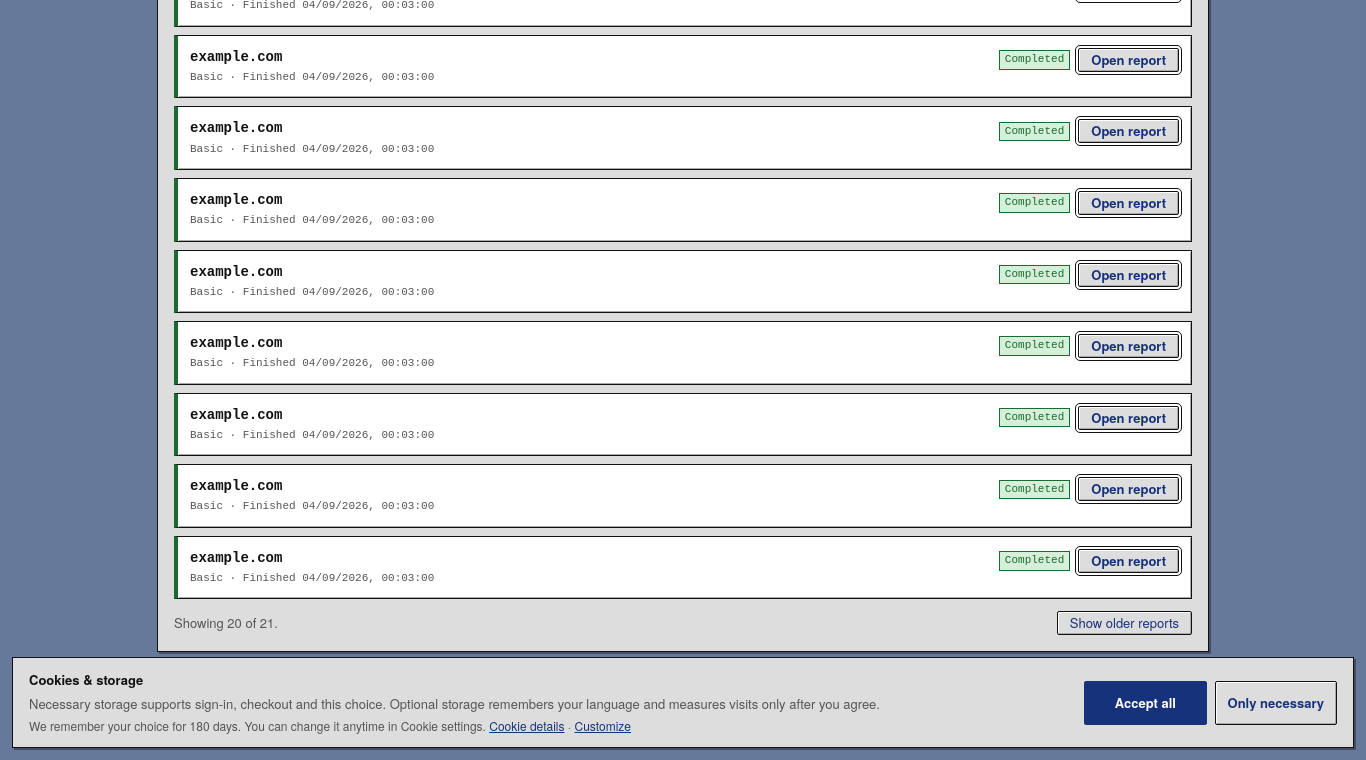
Test case: Reports list › pages with the envelope meta and appends the next page
(page scrolled)
Click the button "Show older reports": (1124,623) [1057,611,1192,635]
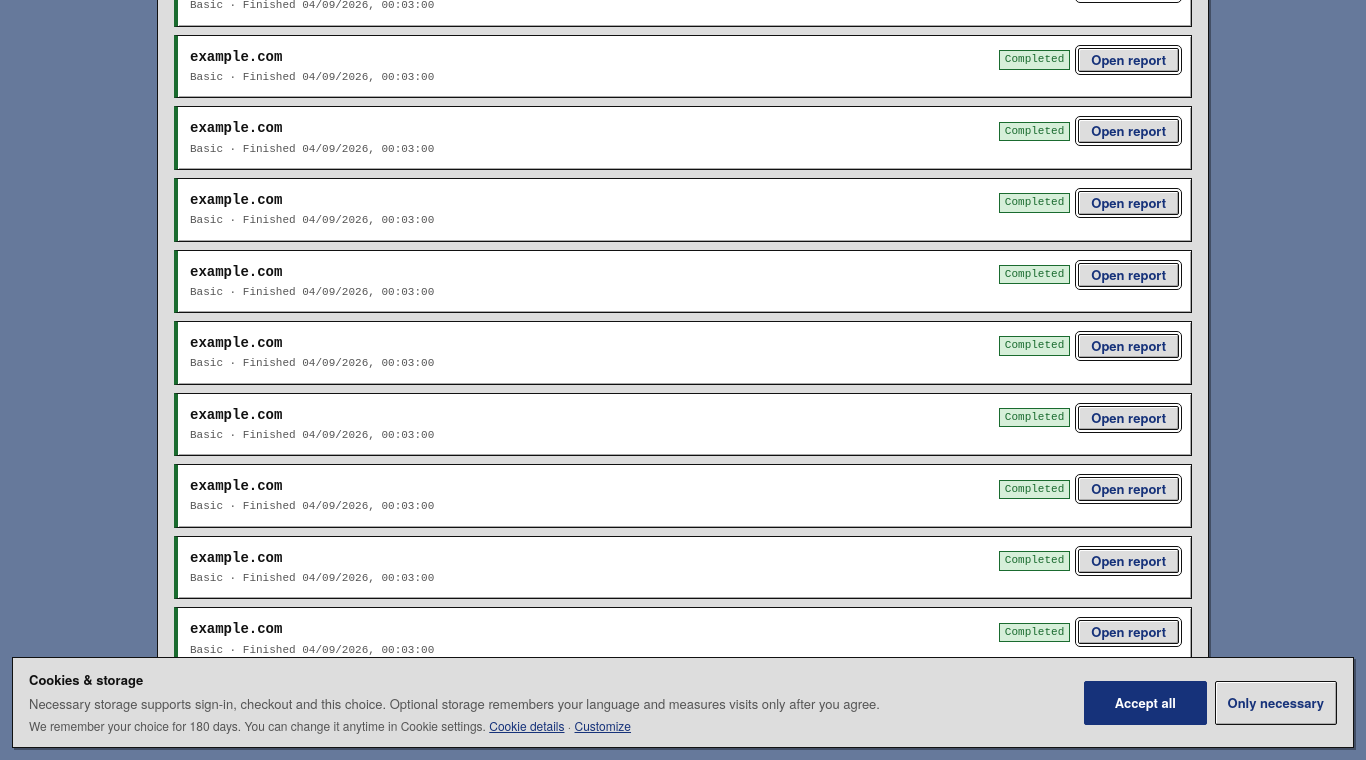
Expected: the text "Showing 21 of 21." is shown, [174,683,278,702]
Result: the button "Show older reports" is gone
